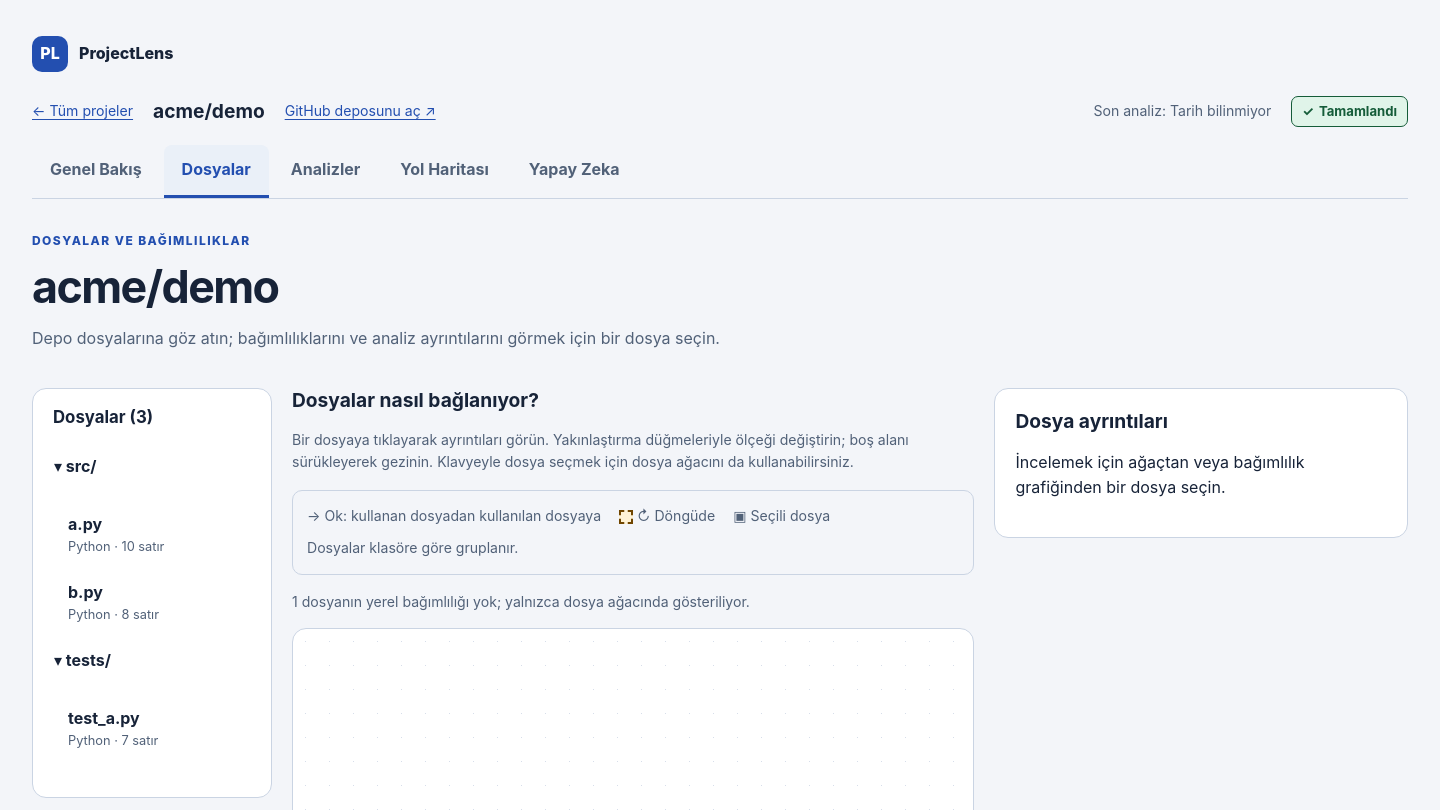
Scenario: project files page › renders a collapsible tree, graph, and selected file details
This screenshot has width=1440, height=810.
Expected: the heading "acme/demo" is shown, x1=32 y1=260 x2=278 y2=314
Click the button "▾ src/".
click(152, 467)  # box x1=45 y1=443 x2=259 y2=490
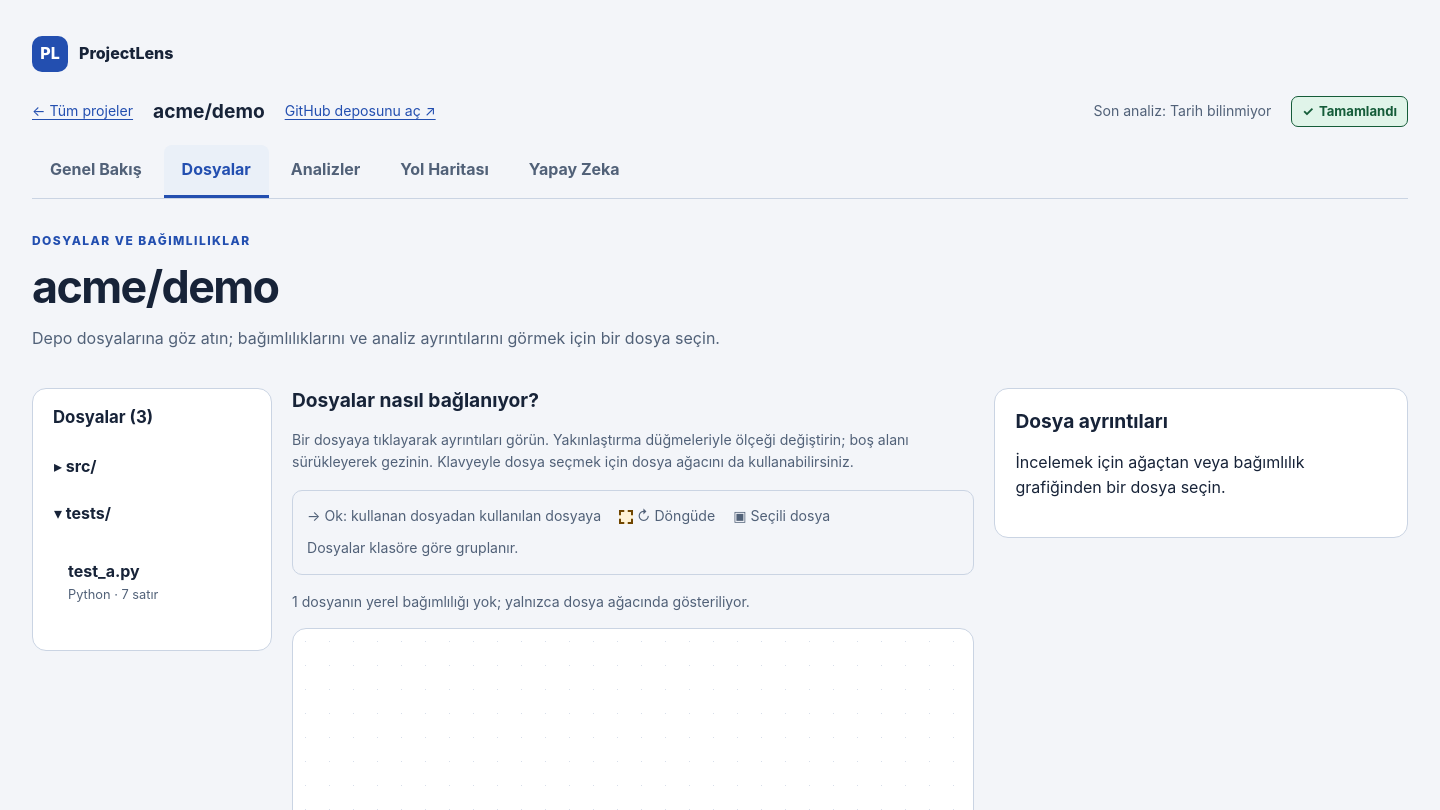
Click the button "▸ src/".
click(152, 467)  # box x1=45 y1=443 x2=259 y2=490
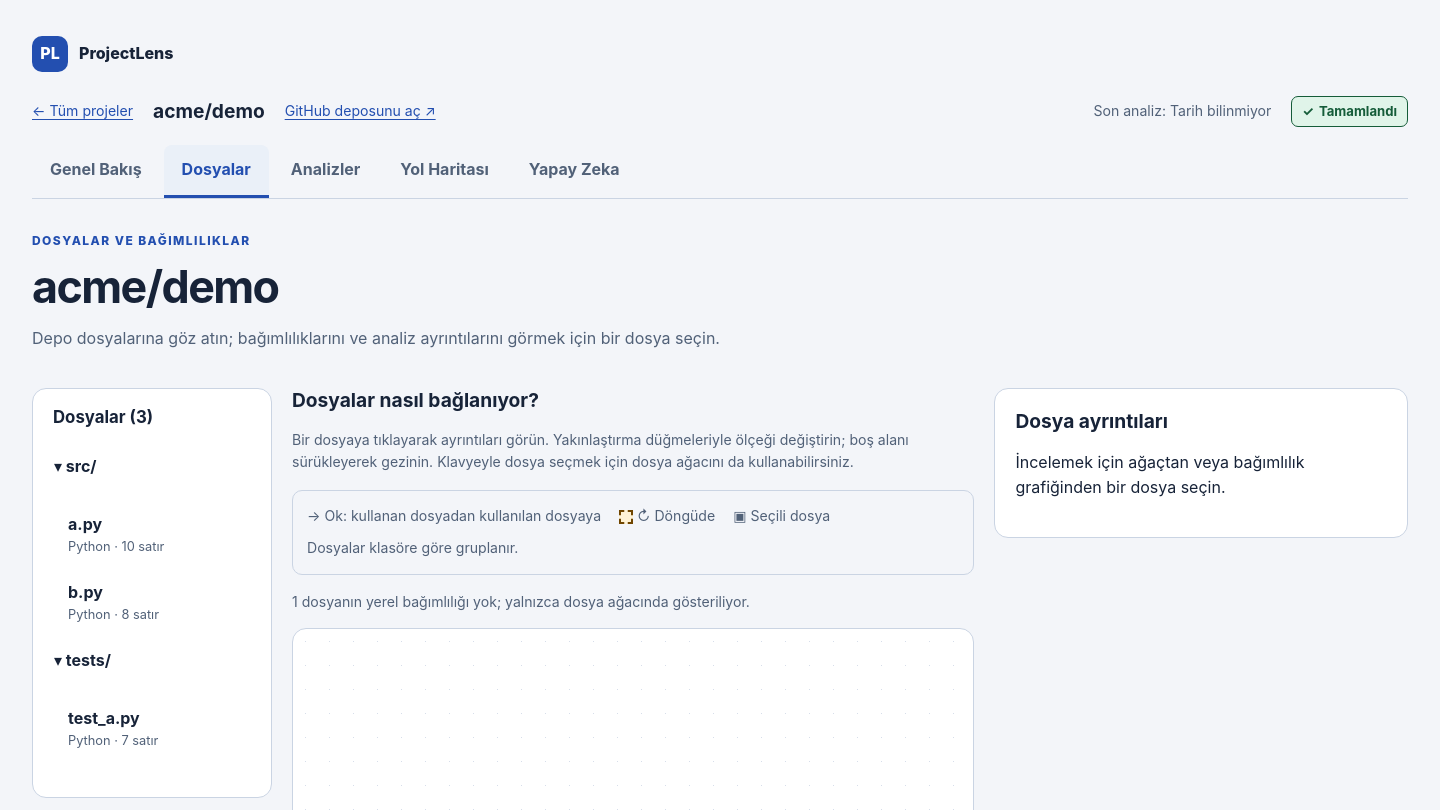
Click the button "a.py Python · 10 satır".
click(159, 535)  # box x1=59 y1=501 x2=259 y2=569
(page scrolled)
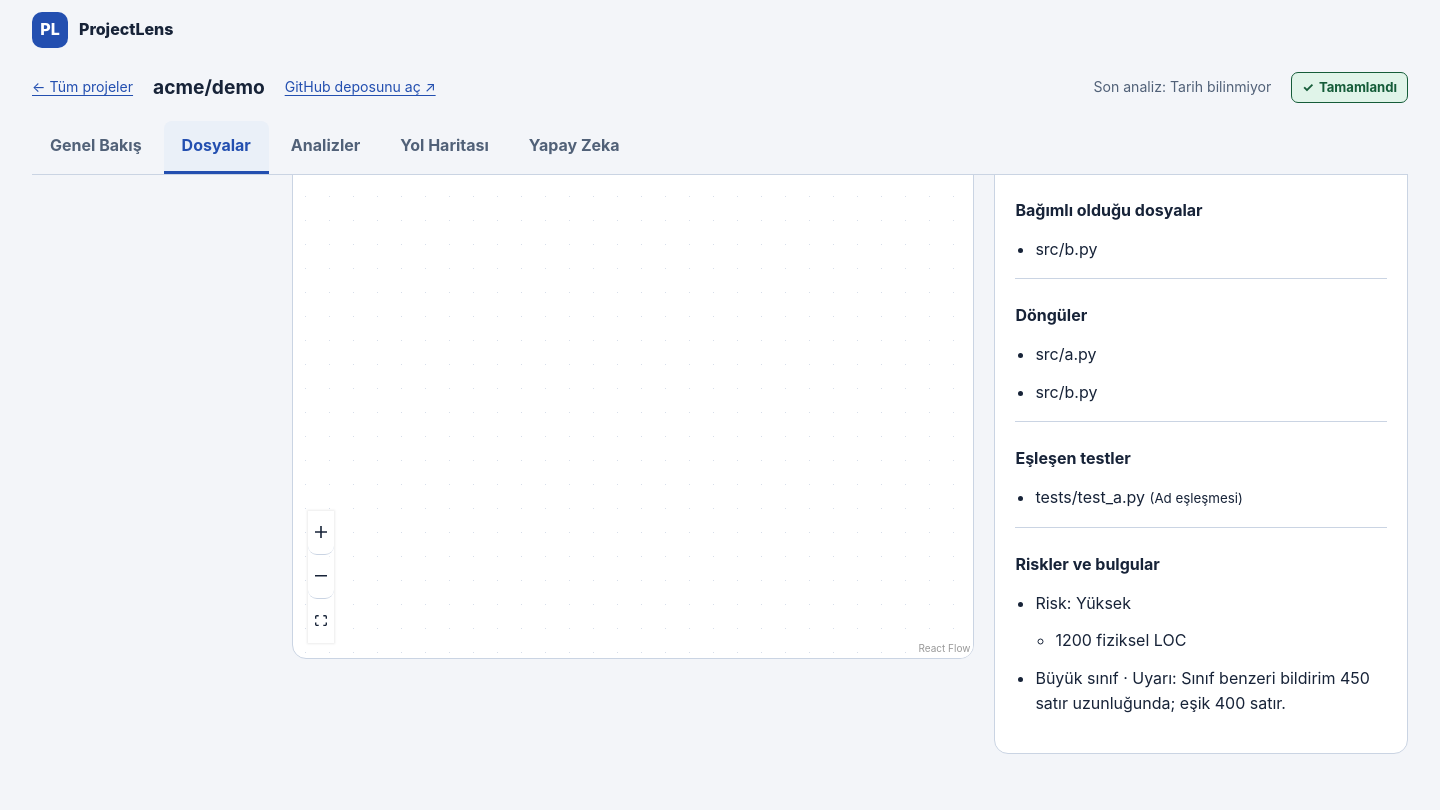
Expected: the list item "tests/test_a.py" is shown, x1=1035 y1=487 x2=1145 y2=507
Expected: the list item "Risk: Yüksek 1200 fiziksel LOC" is shown, x1=1035 y1=593 x2=1186 y2=650
Expected: the list item "1200 fiziksel LOC" is shown, x1=1055 y1=630 x2=1186 y2=650
